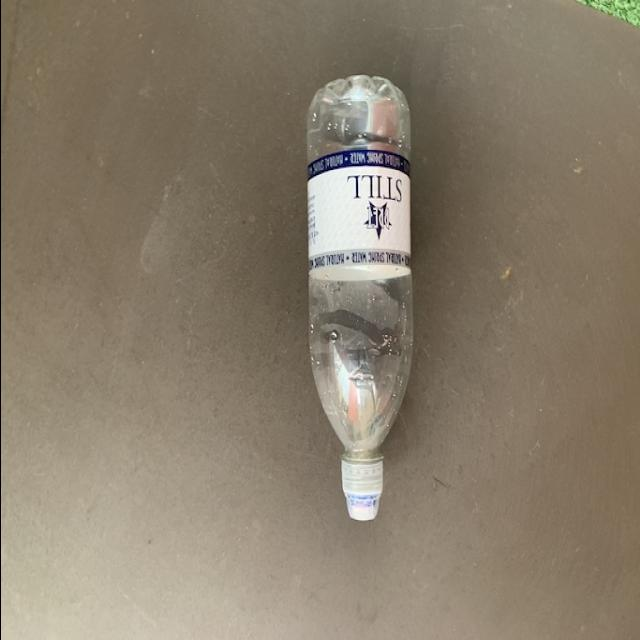PET: (304, 75, 412, 527)
